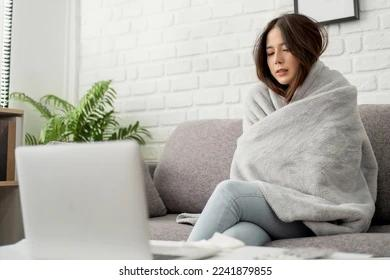blanket: (175, 59, 379, 238)
trousers: (186, 178, 317, 247)
